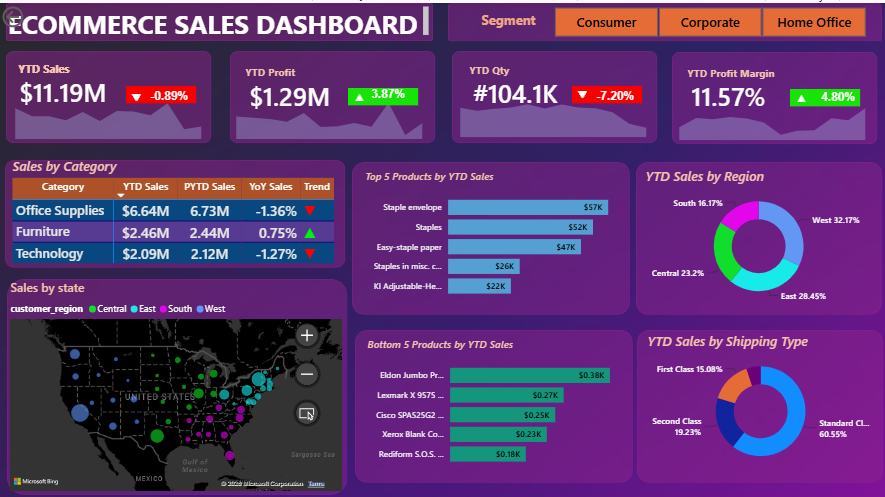

This screenshot's page, from the dashboard's own definition file:
{"tool":"powerbi","page":{"name":"Page 1","canvas":[1280,720],"ordinal":0},"visuals":[{"type":"shape","box":[10,0,615,55],"z":0},{"type":"textbox","box":[8.6,0,614.9,54.7],"z":1000},{"type":"shape","box":[10.1,68.9,295.6,132.7],"z":2000},{"type":"cardVisual","fields":{"Data":["ecommerce_database ecommerce_data.YTD Sales"]},"box":[0,87.3,188.1,77.3],"z":3000},{"type":"areaChart","fields":{"Category":["Calendar.Month"],"Y":["Sum(ecommerce_database ecommerce_data.sales_per_order)"]},"box":[8.4,126,297.3,75.6],"z":4000},{"type":"shape","box":[183.1,119.3,100.8,25.2],"z":5000},{"type":"cardVisual","fields":{"Data":["ecommerce_database ecommerce_data.YoY Sales"]},"box":[188.1,107.5,115.9,50.4],"z":6000},{"type":"cardVisual","fields":{"Data":["ecommerce_database ecommerce_data.Sales Icon"]},"box":[161.3,107.5,72.2,50.4],"z":7000},{"type":"textbox","box":[23.5,79,159.6,33.6],"z":8000},{"type":"shape","box":[332.6,68.9,295.6,132.7],"z":9000},{"type":"cardVisual","fields":{"Data":["ecommerce_database ecommerce_data.YTD Profit"]},"box":[330.9,94.1,188.1,77.3],"z":10000},{"type":"areaChart","fields":{"Category":["Calendar.Month"],"Y":["Sum(ecommerce_database ecommerce_data.profit_per_order)"]},"box":[327.6,126,297.3,75.6],"z":11000},{"type":"shape","box":[502.3,122.6,100.8,25.2],"z":12000},{"type":"cardVisual","fields":{"Data":["ecommerce_database ecommerce_data.YoY Profit"]},"box":[507.3,105.8,115.9,50.4],"z":13000},{"type":"cardVisual","fields":{"Data":["ecommerce_database ecommerce_data.Profit Icon"]},"box":[482.1,107.5,72.2,50.4],"z":14000},{"type":"textbox","box":[23.5,79,169.7,43.7],"z":15000},{"type":"textbox","box":[349.4,84,240.2,31.9],"z":16000},{"type":"shape","box":[651.8,68.9,295.6,132.7],"z":17000},{"type":"cardVisual","fields":{"Data":["ecommerce_database ecommerce_data.YTD CONACATENTED QTY"]},"box":[653.4,89,201.6,79],"z":18000},{"type":"areaChart","fields":{"Category":["Calendar.Month"],"Y":["Sum(ecommerce_database ecommerce_data.order_quantity)"]},"box":[650.1,131,297.3,67.2],"z":19000},{"type":"shape","box":[824.7,119.2,100.8,25.2],"z":20000},{"type":"cardVisual","fields":{"Data":["ecommerce_database ecommerce_data.YoY Qty"]},"box":[831.5,107.5,115.9,50.4],"z":21000},{"type":"cardVisual","fields":{"Data":["ecommerce_database ecommerce_data.Qty Icon"]},"box":[802.9,104.1,72.2,50.4],"z":22000},{"type":"textbox","box":[671.8,80.6,240.2,31.9],"z":23000},{"type":"shape","box":[969.1,70.4,295.6,132.7],"z":24000},{"type":"cardVisual","fields":{"Data":["ecommerce_database ecommerce_data.YTD Profit Margin"]},"box":[967.5,94,201.6,79],"z":25000},{"type":"areaChart","fields":{"Category":["Calendar.Month"],"Y":["ecommerce_database ecommerce_data.Profit_Margin"]},"box":[964.1,136,297.3,67.2],"z":26000},{"type":"shape","box":[1138.7,124.1,100.8,25.2],"z":27000},{"type":"cardVisual","fields":{"Data":["ecommerce_database ecommerce_data.YoY Profit Margin"]},"box":[1155.5,109,115.9,50.4],"z":28000},{"type":"cardVisual","fields":{"Data":["ecommerce_database ecommerce_data.PROFIT MARGIN Icon"]},"box":[1118.7,109.2,72.2,50.4],"z":29000},{"type":"textbox","box":[985.9,85.5,240.2,31.9],"z":30000},{"type":"shape","box":[8.4,226.8,490,155],"z":31000},{"type":"pivotTable","title":"Sales by Category","fields":{"Rows":["ecommerce_database ecommerce_data.category_name"],"Values":["ecommerce_database ecommerce_data.YTD Sales","ecommerce_database ecommerce_data.PYTD Sales","ecommerce_database ecommerce_data.YoY Sales","ecommerce_database ecommerce_data.Sales Icon"]},"box":[15.1,221.7,492.2,161.3],"z":32000},{"type":"shape","box":[11.8,398.1,490.5,310.8],"z":33000},{"type":"map","title":" Sales by state","fields":{"Y":["ecommerce_database us_state_long_lat_codes.latitude"],"X":["ecommerce_database us_state_long_lat_codes.longitude"],"Size":["ecommerce_database ecommerce_data.YTD Sales"],"Series":["ecommerce_database ecommerce_data.customer_region"]},"box":[11.8,398.1,487.1,310.8],"z":34000},{"type":"shape","box":[509,228.5,400,220],"z":35000},{"type":"shape","box":[512.3,470.3,400,220],"z":36000},{"type":"barChart","title":"Top 5 Products by YTD Sales","fields":{"Category":["ecommerce_database ecommerce_data.product_name"],"Y":["ecommerce_database ecommerce_data.YTD Sales"]},"box":[522.4,238.5,371.2,196.5],"z":37000},{"type":"barChart","title":"Bottom 5 Products by YTD Sales","fields":{"Category":["ecommerce_database ecommerce_data.product_name"],"Y":["ecommerce_database ecommerce_data.YTD Sales"]},"box":[525.8,480.4,371.2,196.5],"z":38000},{"type":"shape","box":[917.2,228.5,354.4,220.1],"z":39000},{"type":"shape","box":[918.8,470.3,354.4,220.1],"z":40000},{"type":"donutChart","title":"YTD Sales by Region","fields":{"Category":["ecommerce_database ecommerce_data.customer_region"],"Y":["ecommerce_database ecommerce_data.YTD Sales"]},"box":[925.6,236.9,336,203.3],"z":41000},{"type":"donutChart","title":"YTD Sales by Shipping Type","fields":{"Y":["ecommerce_database ecommerce_data.YTD Sales"],"Category":["ecommerce_database ecommerce_data.shipping_type"]},"box":[928.9,473.7,336,203.3],"z":42000},{"type":"shape","box":[646.7,0,624.9,55.4],"z":43000},{"type":"slicer","fields":{"Values":["ecommerce_database ecommerce_data.customer_segment"]},"box":[774.4,0,497.2,55.4],"z":44000},{"type":"textbox","box":[690.4,6.7,168,40.3],"z":45000},{"type":"actionButton","box":[0,0,100,40],"z":46000}]}

Visuals, with their boxes in screenshot pixels (x1, y1, x2, y2), scaled from the page's 1280x720 canvas onto the 885x497 screenshot:
shape: 7:0:432:38
textbox: 6:0:431:38
shape: 7:48:211:139
cardVisual - ecommerce_database ecommerce_data.YTD Sales: 0:60:130:114
areaChart - Calendar.Month x Sum(ecommerce_database ecommerce_data.sales_per_order): 6:87:211:139
shape: 127:82:196:100
cardVisual - ecommerce_database ecommerce_data.YoY Sales: 130:74:210:109
cardVisual - ecommerce_database ecommerce_data.Sales Icon: 112:74:161:109
textbox: 16:55:127:78
shape: 230:48:434:139
cardVisual - ecommerce_database ecommerce_data.YTD Profit: 229:65:359:118
areaChart - Calendar.Month x Sum(ecommerce_database ecommerce_data.profit_per_order): 227:87:432:139
shape: 347:85:417:102
cardVisual - ecommerce_database ecommerce_data.YoY Profit: 351:73:431:108
cardVisual - ecommerce_database ecommerce_data.Profit Icon: 333:74:383:109
textbox: 16:55:134:85
textbox: 242:58:408:80
shape: 451:48:655:139
cardVisual - ecommerce_database ecommerce_data.YTD CONACATENTED QTY: 452:61:591:116
areaChart - Calendar.Month x Sum(ecommerce_database ecommerce_data.order_quantity): 449:90:655:137
shape: 570:82:640:100
cardVisual - ecommerce_database ecommerce_data.YoY Qty: 575:74:655:109
cardVisual - ecommerce_database ecommerce_data.Qty Icon: 555:72:605:107
textbox: 464:56:631:78
shape: 670:49:874:140
cardVisual - ecommerce_database ecommerce_data.YTD Profit Margin: 669:65:808:119
areaChart - Calendar.Month x ecommerce_database ecommerce_data.Profit_Margin: 667:94:872:140
shape: 787:86:857:103
cardVisual - ecommerce_database ecommerce_data.YoY Profit Margin: 799:75:879:110
cardVisual - ecommerce_database ecommerce_data.PROFIT MARGIN Icon: 773:75:823:110
textbox: 682:59:848:81
shape: 6:157:345:264
"Sales by Category" pivotTable: 10:153:351:264
shape: 8:275:347:489
" Sales by state" map: 8:275:345:489
shape: 352:158:628:310
shape: 354:325:631:476
"Top 5 Products by YTD Sales" barChart: 361:165:618:300
"Bottom 5 Products by YTD Sales" barChart: 364:332:620:467
shape: 634:158:879:310
shape: 635:325:880:477
"YTD Sales by Region" donutChart: 640:164:872:304
"YTD Sales by Shipping Type" donutChart: 642:327:875:467
shape: 447:0:879:38
slicer - ecommerce_database ecommerce_data.customer_segment: 535:0:879:38
textbox: 477:5:594:32
actionButton: 0:0:69:28
